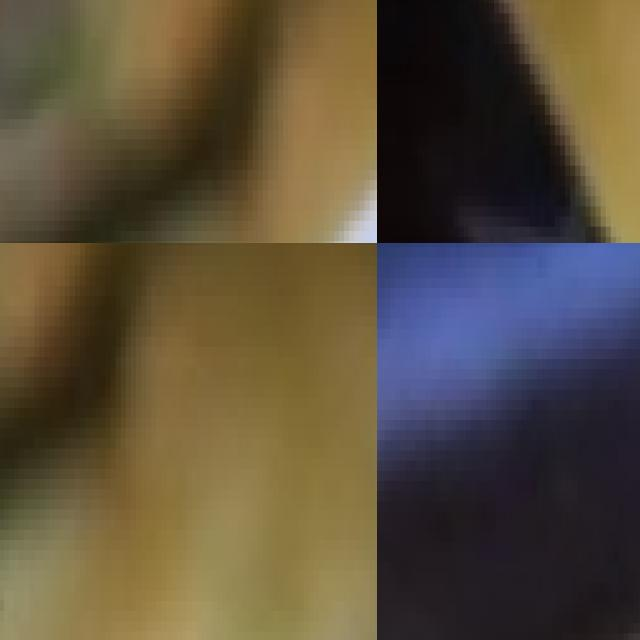fish: (377, 243, 640, 640), (0, 0, 377, 243), (377, 0, 640, 243)
